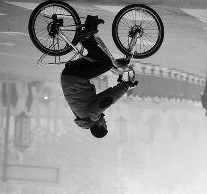person: (59, 15, 138, 139), (200, 77, 207, 117), (10, 82, 18, 108), (25, 84, 32, 113), (1, 82, 8, 107)
